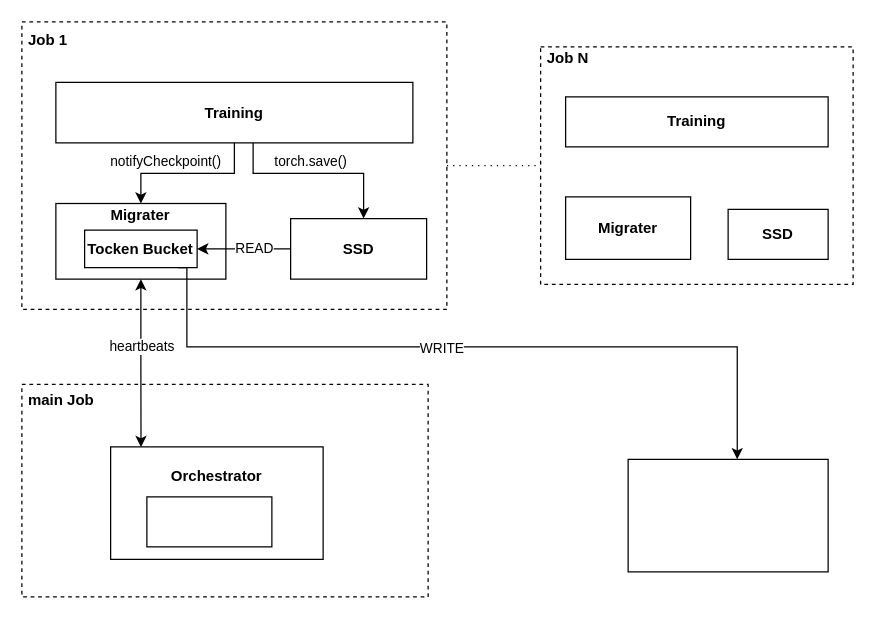
The diagram is 875 pixels wide and 619 high, and some of its shapes have lost their labels. The centre of each missing label's shape, as x and y in pixels:
"PFS (Lustre)" belongs at pixel 727 515.
"Policy Eval" belongs at pixel 209 521.
